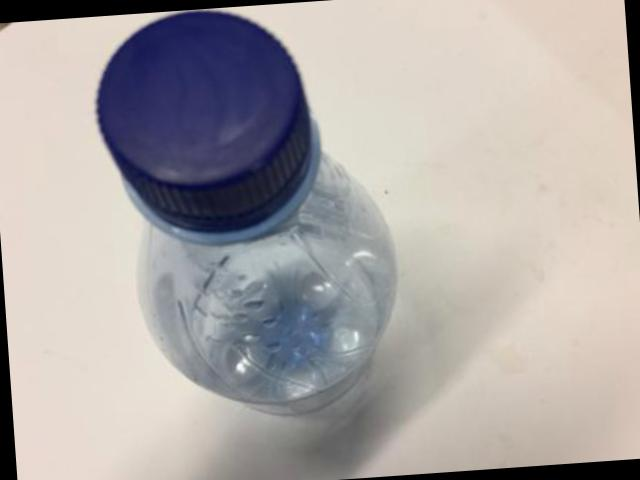plastic: (98, 8, 397, 411)
